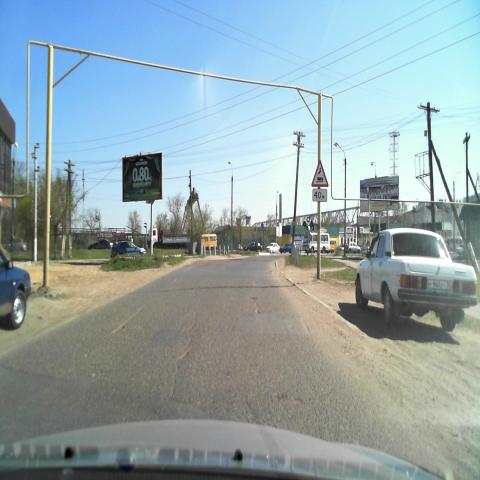1_2: (310, 159, 328, 186)
